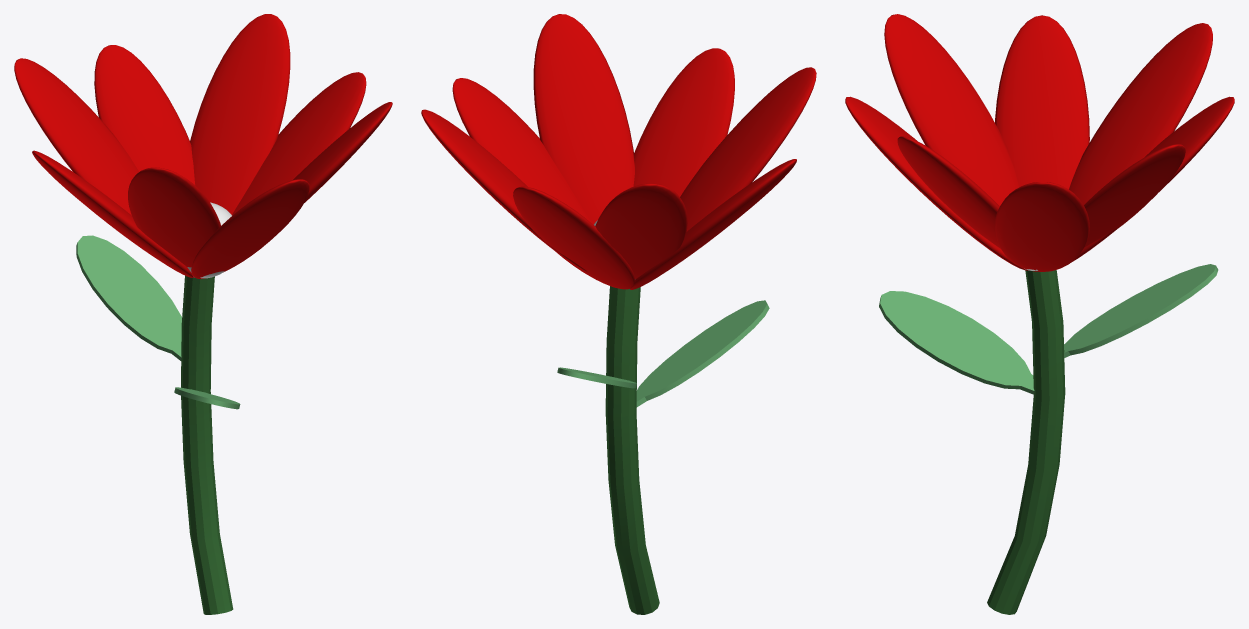
File: Lovers Rose.fbx
3 renders of one model, left to right at view 1: azimuth 30°, elevation 25°; view 2: azimuth 150°, elevation 25°; view 3: azimuth 270°, elevation 25°, orthographic. The views are drawn at different scales.
Visible parts, largest first — view 1: pCylinder4; view 2: pCylinder4; view 3: pCylinder4.
Boxes of the visible parts, left/top/right/bottom form: pCylinder4: left=14, top=14, right=392, bottom=614; pCylinder4: left=421, top=14, right=816, bottom=614; pCylinder4: left=845, top=14, right=1234, bottom=614.
Size of the model in its own units: 2.38 by 3.56 by 2.33.
